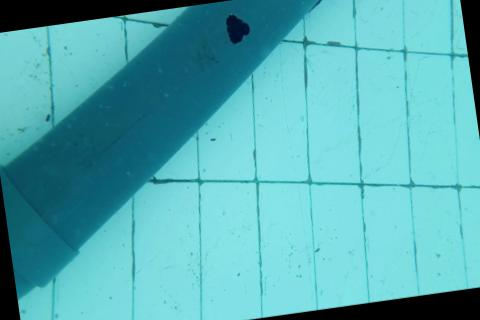kebocoran: (223, 10, 251, 47)
